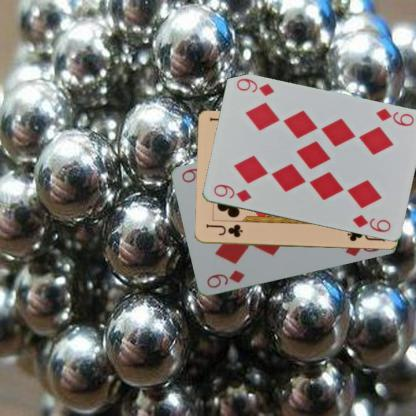9d: (210, 181, 252, 204), (204, 268, 246, 290), (373, 106, 415, 128)
Jc: (203, 221, 244, 239)
